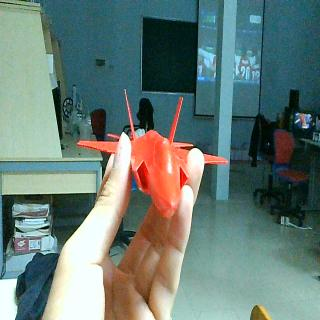Jet: (78, 88, 228, 218)
